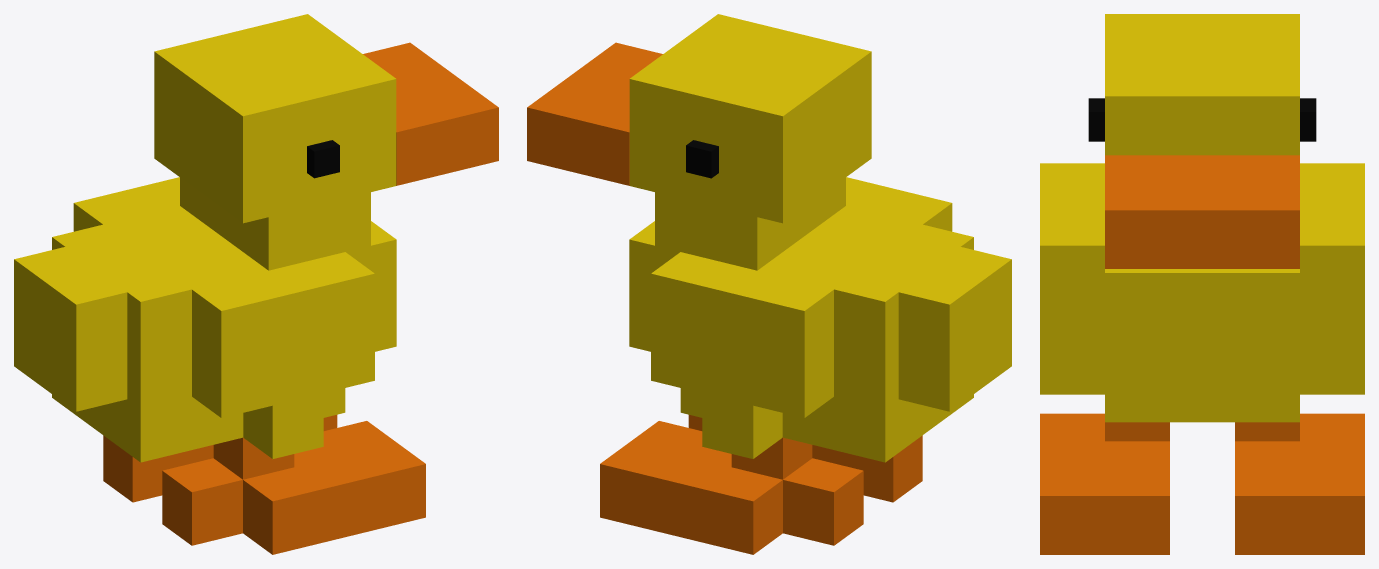
The model's file is duck.fbx.
The picture shows the model from 3 angles, left to right: view 1: azimuth 30°, elevation 25°; view 2: azimuth 150°, elevation 25°; view 3: azimuth 270°, elevation 25°; orthographic projection. The views are drawn at different scales.
Parts seen in each view (by area): view 1: pCube198, pCube181, pCube175, pCube164, pCube194; view 2: pCube198, pCube164, pCube175, pCube181, pCube199; view 3: pCube198, pCube175, pCube181, pCube164, pCube194, pCube199.
Part boxes in pixels (x1,y1,x2,y2): pCube198: [14, 14, 396, 462]; pCube181: [162, 421, 425, 554]; pCube175: [363, 42, 498, 185]; pCube164: [103, 415, 337, 502]; pCube194: [307, 140, 339, 178]; pCube198: [629, 14, 1011, 462]; pCube164: [600, 421, 863, 554]; pCube175: [527, 42, 662, 185]; pCube181: [688, 415, 922, 502]; pCube199: [686, 140, 718, 178]; pCube198: [1040, 14, 1364, 422]; pCube175: [1105, 155, 1299, 268]; pCube181: [1040, 413, 1169, 554]; pCube164: [1235, 413, 1364, 554]; pCube194: [1088, 98, 1104, 141]; pCube199: [1300, 98, 1316, 141].
Size of the model in its own units: 0.8 by 0.7788 by 0.5.
